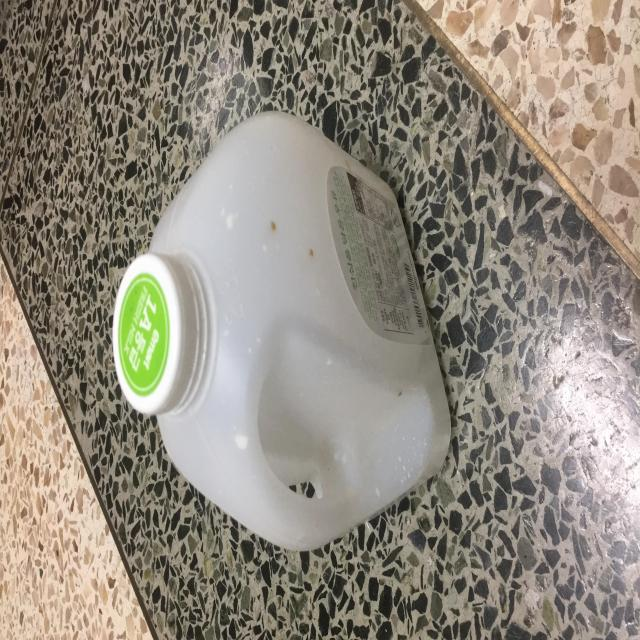plasticbottle: (76, 107, 459, 544)
plasticbottlecap: (103, 232, 215, 430)
